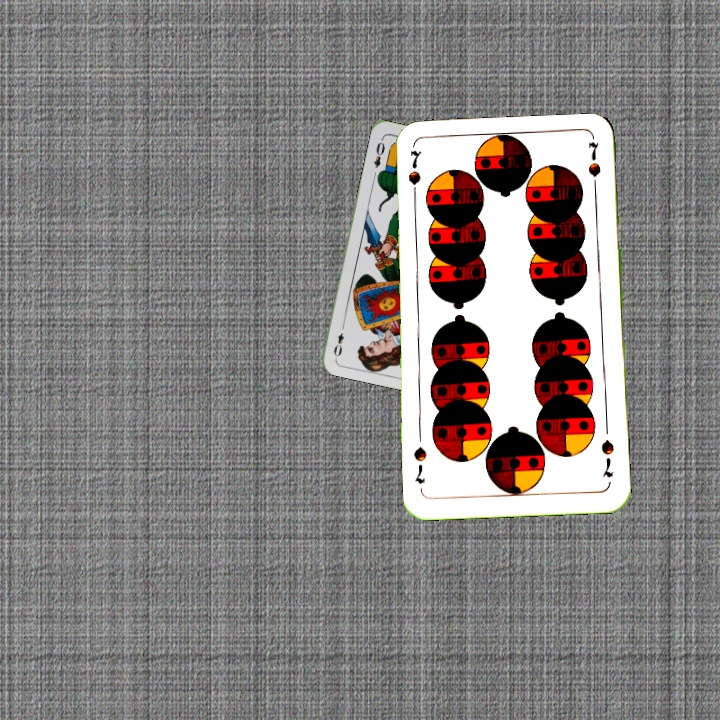EO: (370, 138, 387, 170)
S7: (404, 146, 423, 204), (597, 436, 617, 480)
